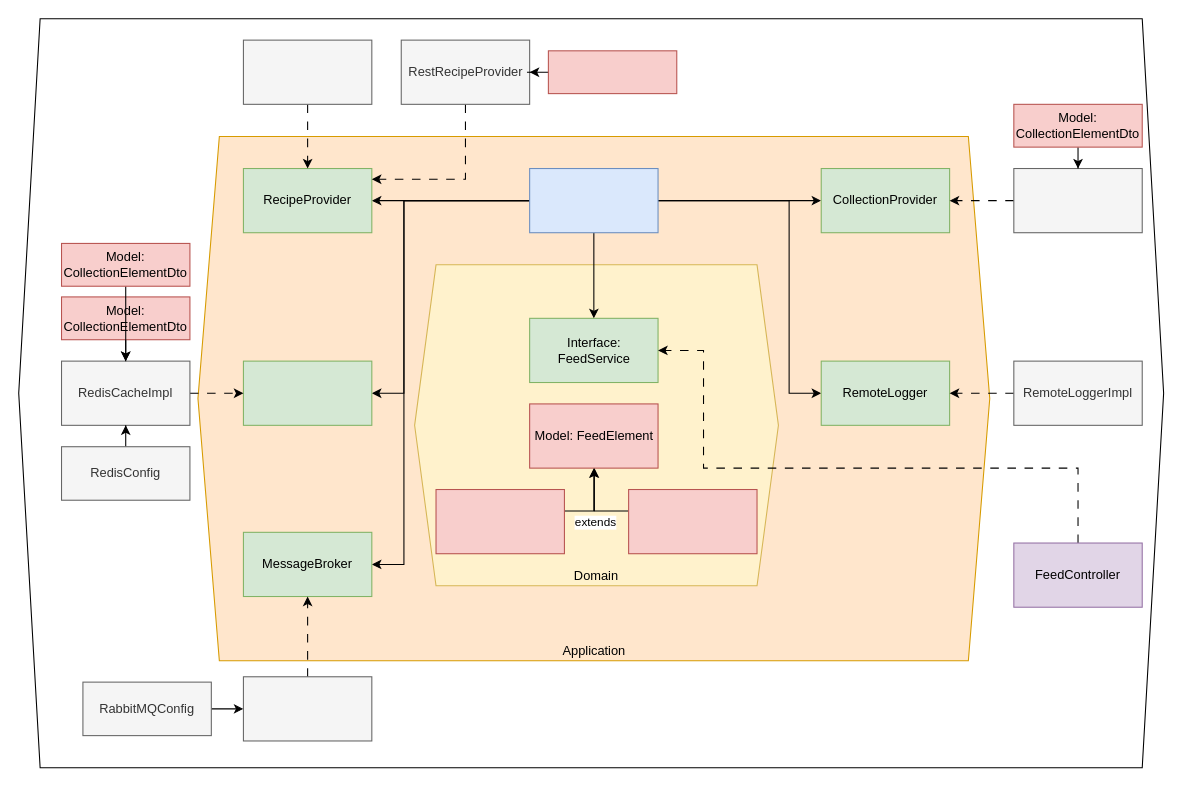
This 1182x786 diagram has some shape labels left out. The box of each missing label's shape, as (x1, y1, x2, y2) in pixels:
CollectionProviderImpl: (1013, 167, 1142, 233)
FeedCache: (242, 360, 372, 425)
FeedServiceImpl: (529, 167, 658, 233)
GRPCRecipeProvider: (242, 39, 372, 104)
Model: ColectionElement: (628, 488, 757, 554)
Model: RecipeElement: (435, 488, 564, 554)
Model: RecipeElementDto: (547, 50, 677, 94)
RabbitMQImpl: (242, 676, 372, 741)
